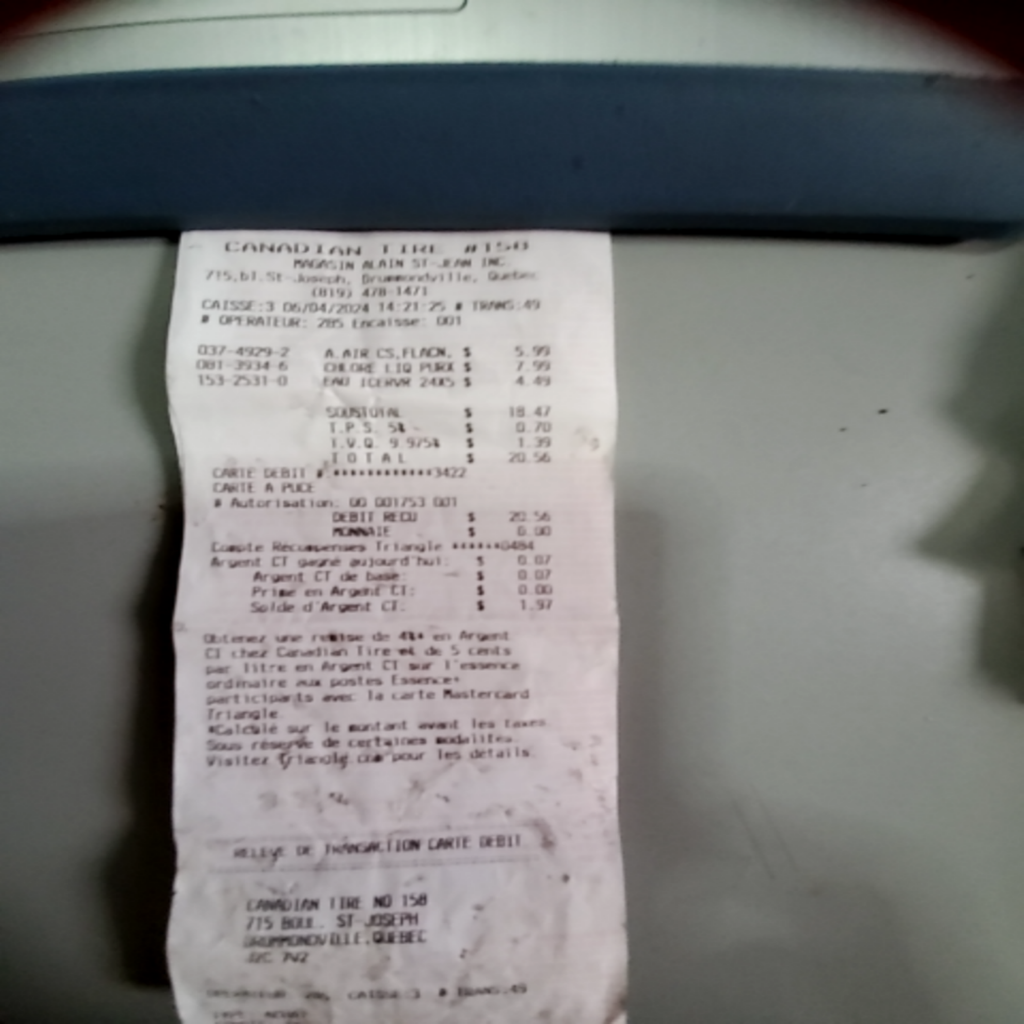recipt: (159, 232, 627, 1024)
